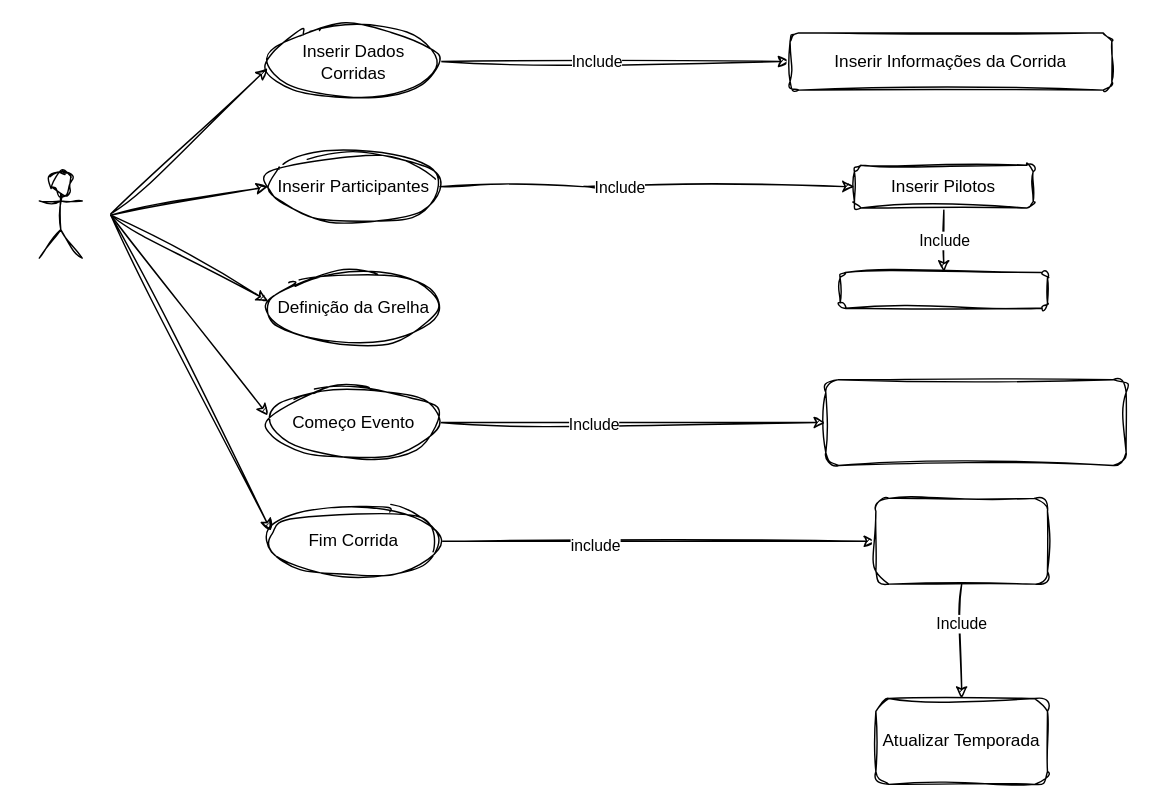
Image size: 1151x809. Some labels were removed from this diagram. The centre of each missing label's shape, as x and y in pixels:
Inserir Marcas: the point at 943,289
Registo do Horário do começo: the point at 975,421
Registo dos dados do fim do evento: the point at 960,540
Utilizador: the point at 60,214
